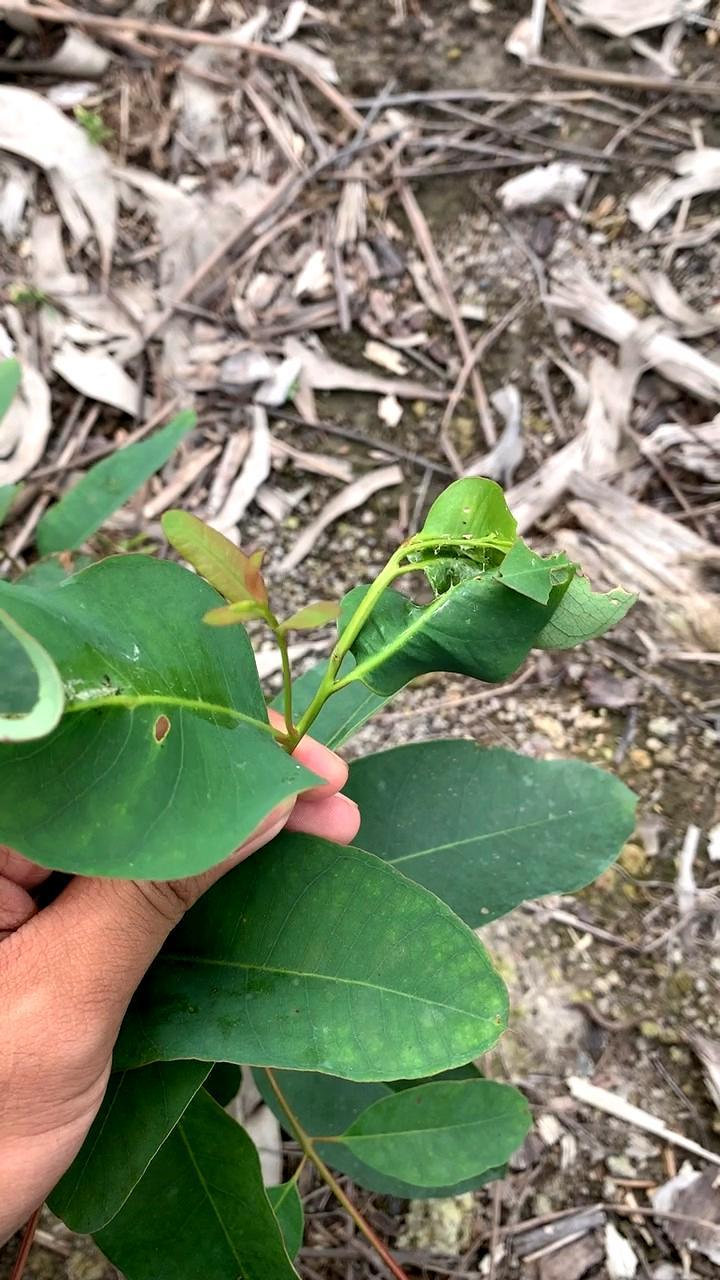Leaf Roller - Leaf: (361, 468, 645, 700)
